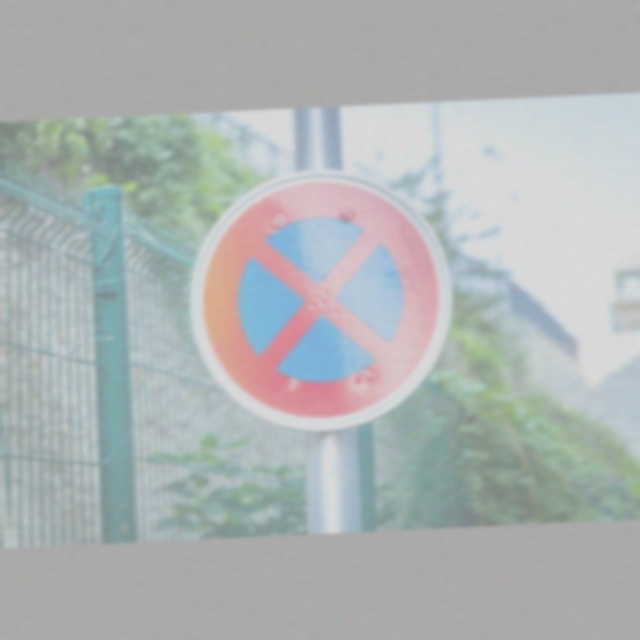No_Stopping_or_Standing: (189, 181, 458, 423)
